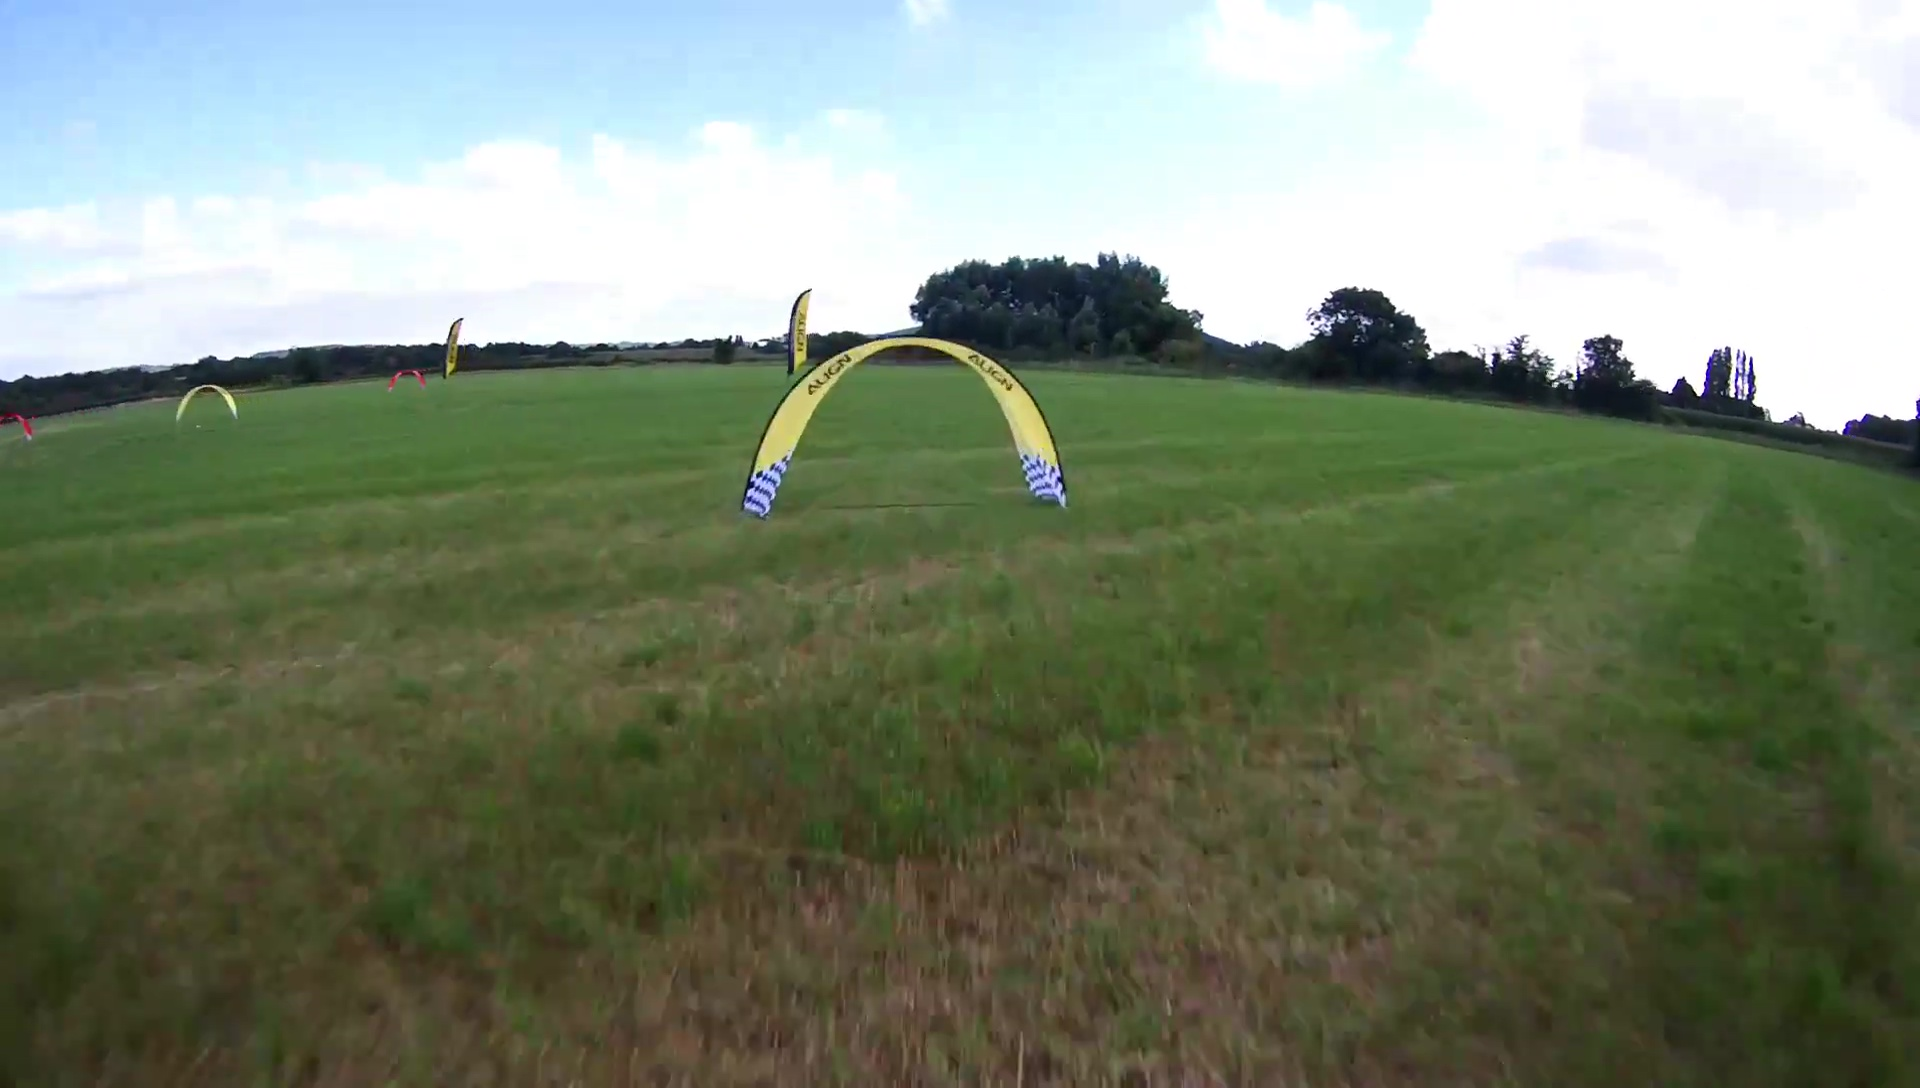gate: (742, 335, 1072, 520), (171, 382, 243, 422), (385, 368, 429, 390)
